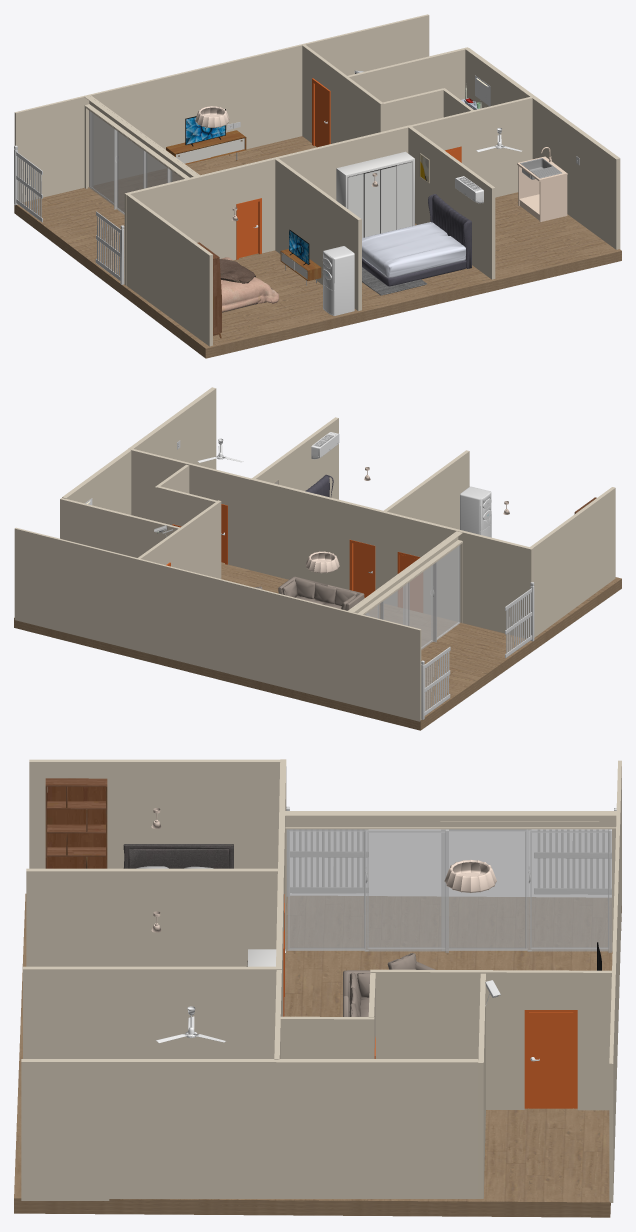
The model's file is house.gltf.
3 renders of one model, top to bottom at view 1: azimuth 30°, elevation 25°; view 2: azimuth 150°, elevation 25°; view 3: azimuth 270°, elevation 25°, orthographic. The views are drawn at different scales.
Parts seen in each view (by area): view 1: 地面, wall.001, wall, wall4, wall5, wall.005, wall.004, 床2, wall2, wall1, 柜子1, wall.003 (+20 smaller); view 2: wall.001, 地面, wall5, wall3, wall4, wall, wall.005, wall.004, wall.003, wall2, wall1, window_left.001 (+11 smaller); view 3: wall, 地面, wall.005, wall2, wall1, wall4, window_door, 阳台左门, window_left.001, 阳台右门, window_frame, 柜子2 (+11 smaller).
Boxes of the visible parts, <box> form: 地面: <box>14,136,621,358</box>; wall.001: <box>14,14,429,201</box>; wall: <box>465,48,620,249</box>; wall4: <box>125,193,212,346</box>; wall5: <box>124,157,275,285</box>; wall.005: <box>302,44,473,143</box>; wall.004: <box>411,96,533,197</box>; 床2: <box>362,194,471,286</box>; wall2: <box>275,158,361,310</box>; wall1: <box>407,126,495,279</box>; 柜子1: <box>336,151,414,237</box>; wall.003: <box>347,47,468,102</box>; wall.001: <box>14,527,421,721</box>; 地面: <box>14,562,621,730</box>; wall5: <box>384,511,533,638</box>; wall3: <box>250,478,385,590</box>; wall4: <box>530,487,615,637</box>; wall: <box>62,387,216,514</box>; wall.005: <box>138,464,221,578</box>; wall.004: <box>131,448,250,569</box>; wall.003: <box>60,498,179,557</box>; wall2: <box>383,450,469,529</box>; wall1: <box>251,417,338,499</box>; window_left.001: <box>433,545,460,642</box>; wall: <box>21,1059,478,1200</box>; 地面: <box>14,893,621,1217</box>; wall.005: <box>280,969,611,1110</box>; wall2: <box>26,868,282,966</box>; wall1: <box>23,966,279,1058</box>; wall4: <box>29,759,285,868</box>; window_door: <box>527,829,611,952</box>; 阳台左门: <box>364,829,448,952</box>; window_left.001: <box>287,829,365,950</box>; 阳台右门: <box>441,829,527,950</box>; window_frame: <box>285,811,617,951</box>; 柜子2: <box>45,778,107,868</box>.
Size of the model in its own units: 24.88 by 5.95 by 20.71.
